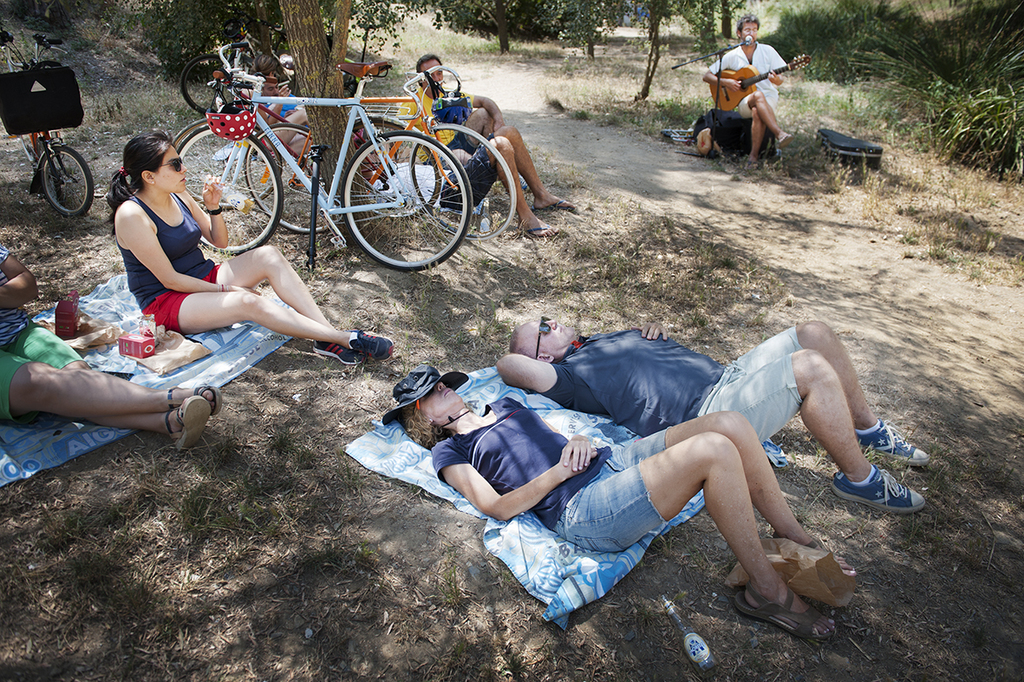Tree: (145, 0, 402, 250), (543, 0, 744, 102), (400, 0, 578, 51)
